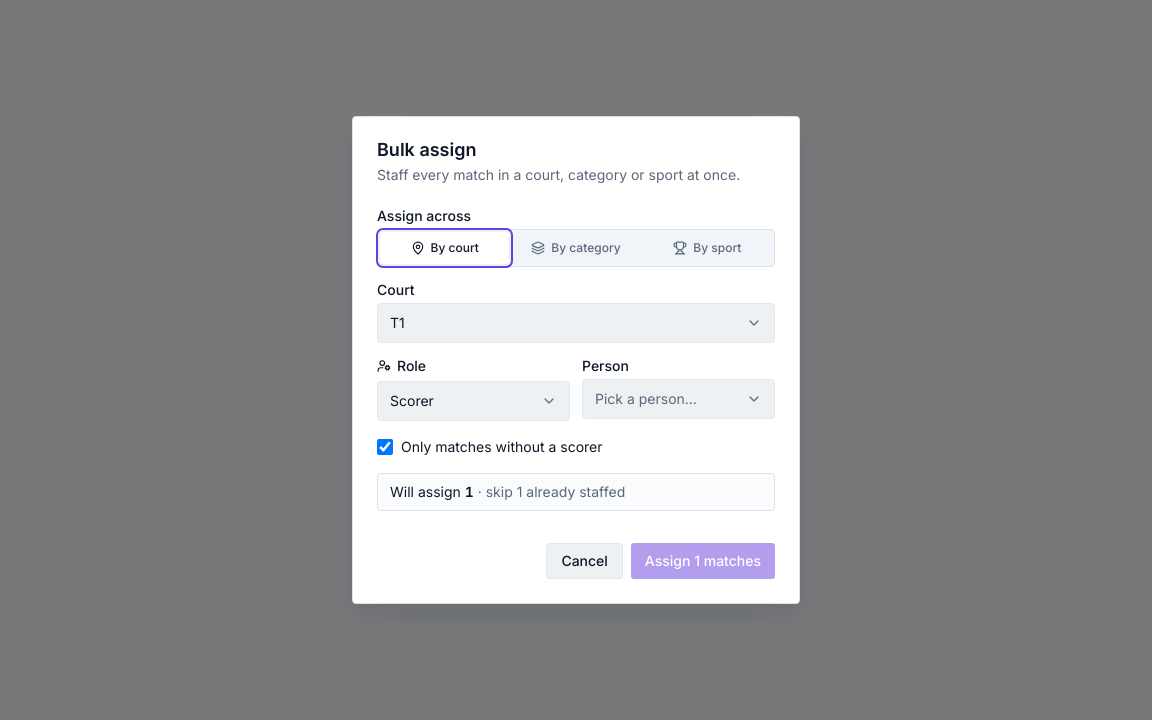
Test: BulkAssignDialog › tells the truth on a client timeout: still running, refreshing — not 'could not assign'
Click the button labelled "Pick a person…" at (678, 399), box x1=582 y1=379 x2=775 y2=419
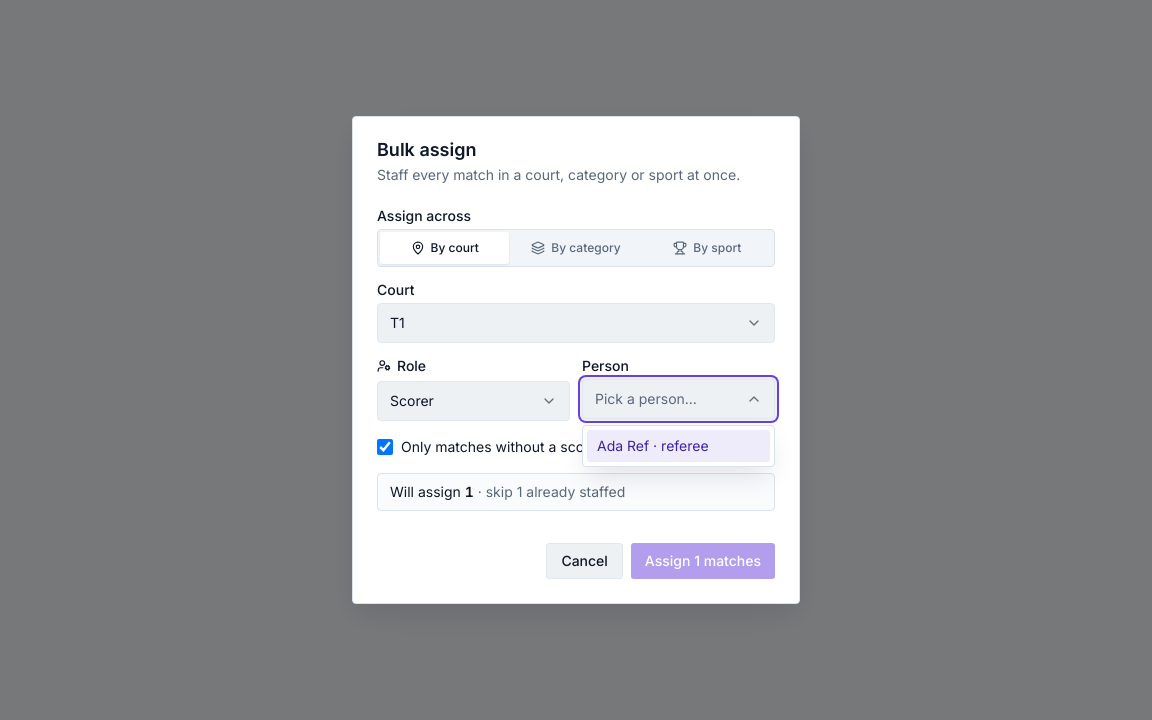
Click the option "Ada Ref · referee" at (678, 446), box x1=587 y1=430 x2=770 y2=462
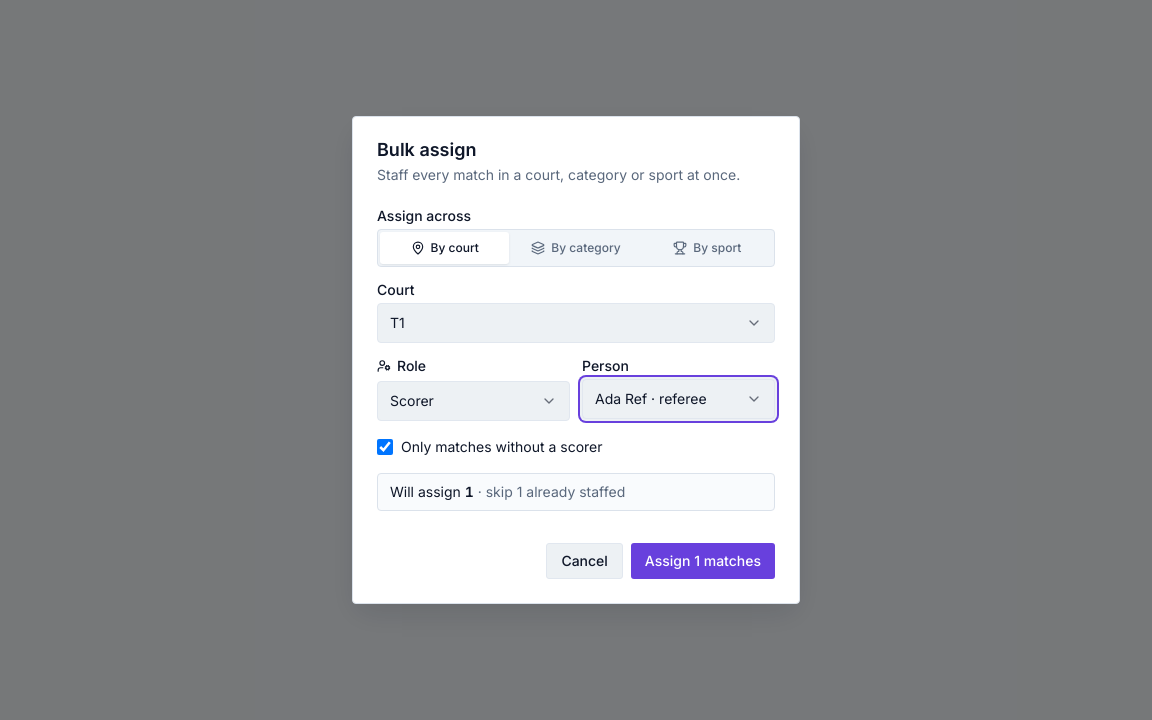
Click the button with test id "bulk-submit" at (703, 561), box x1=631 y1=543 x2=775 y2=579
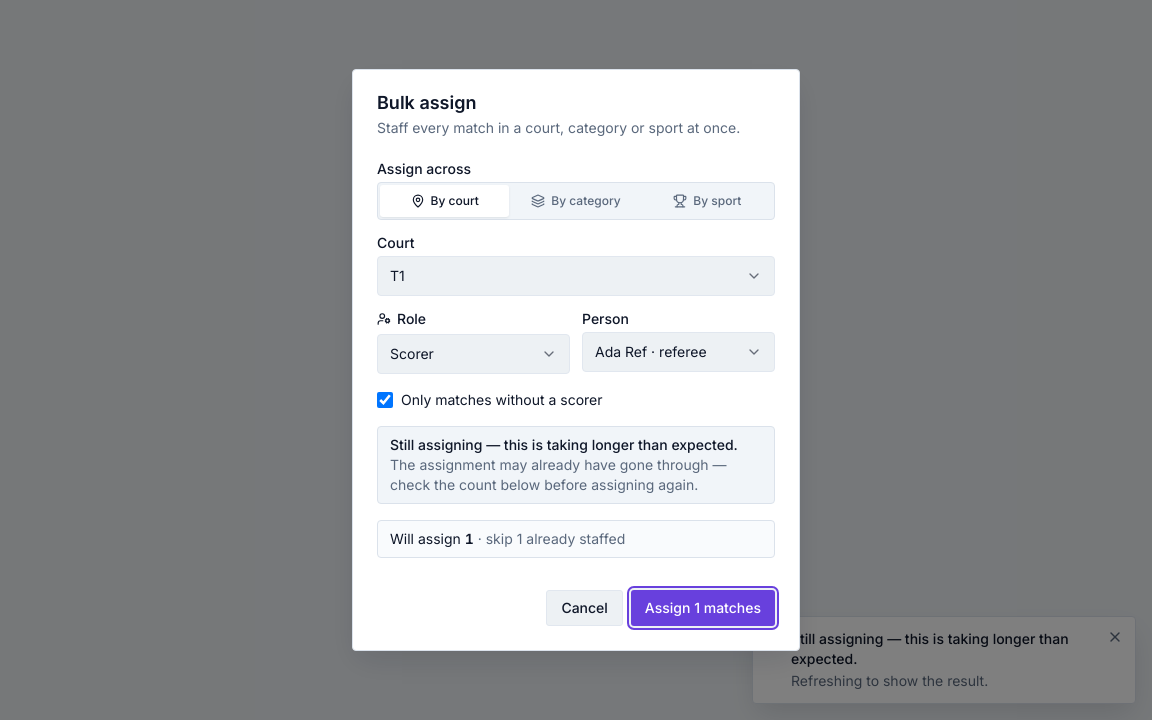
Expected: the element with test id "bulk-assign-dialog" is shown, x1=377 y1=94 x2=775 y2=626
Result: the message with test id "bulk-still-running" shows "Still assigning" at x1=390 y1=436 x2=738 y2=453
Result: the text "Refreshing to show the result." is shown at x1=791 y1=672 x2=988 y2=689
